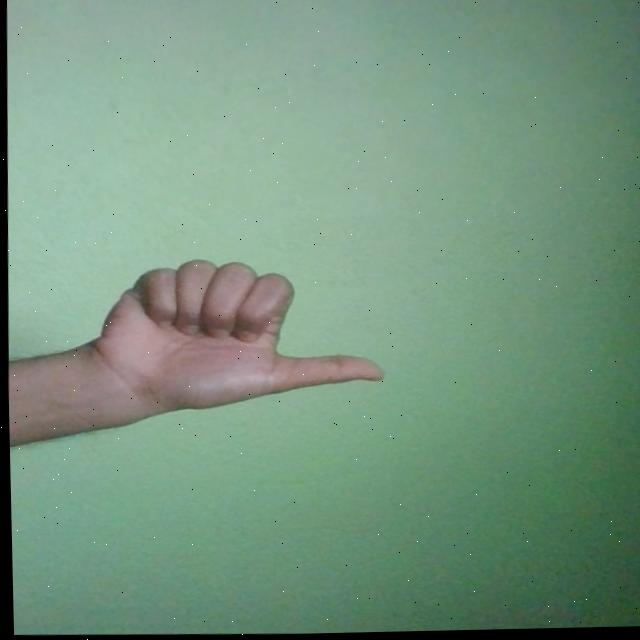Good Job: (82, 254, 383, 417)
